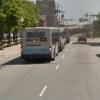Bus: (19, 20, 66, 62)
